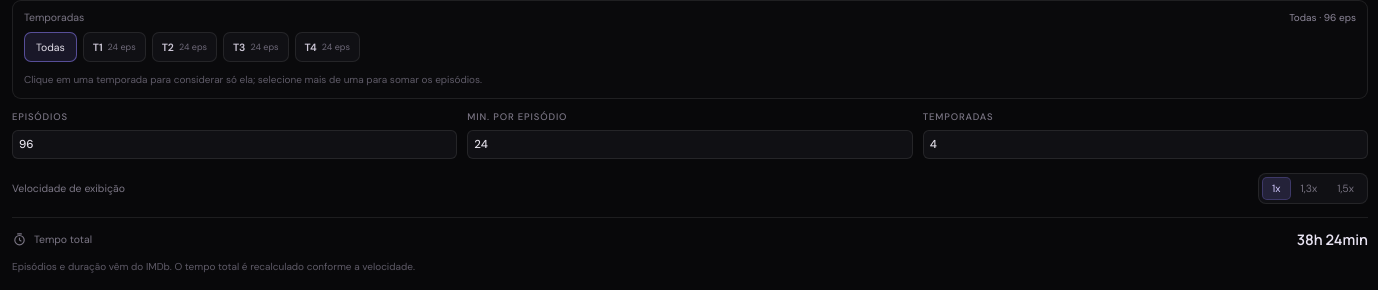
TimeFields (séries) › soma temporadas selecionadas e recalcula na velocidade escolhida
What coordinates should you click on to do the following:
click the button "T2 24 eps"
I would click on:
 (184, 47)
Its box is [152,32,217,62].
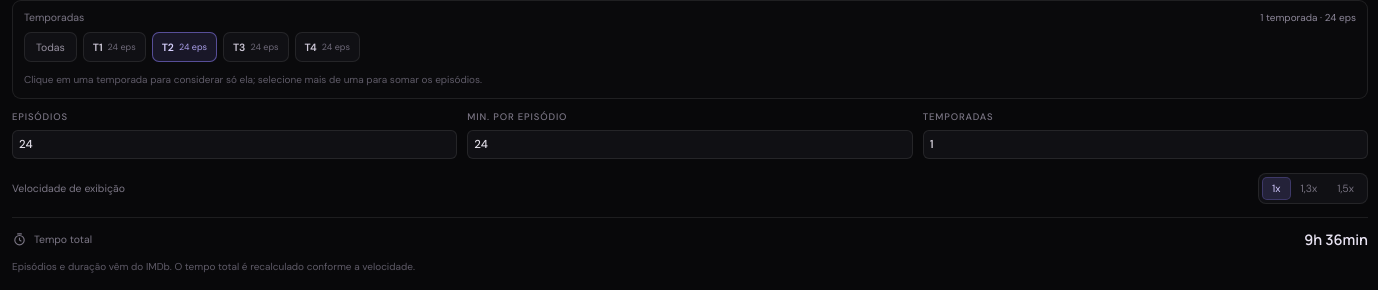
What coordinates should you click on to do the following:
click the button "T3 24 eps"
I would click on:
 (256, 47)
Its box is [223,32,288,62].
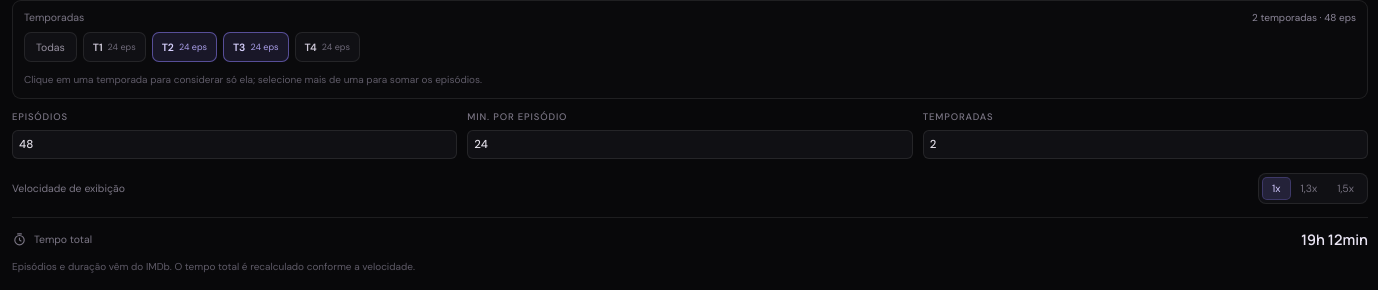
Now the text "2 temporadas · 48 eps" is shown, box [1252,11,1356,24]
Now the text "19h 12min" is shown, box [1301,230,1368,248]
What coordinates should you click on to do the following:
click the button "1,5x"
I would click on:
 (1346, 188)
Its box is [1327,176,1364,200].
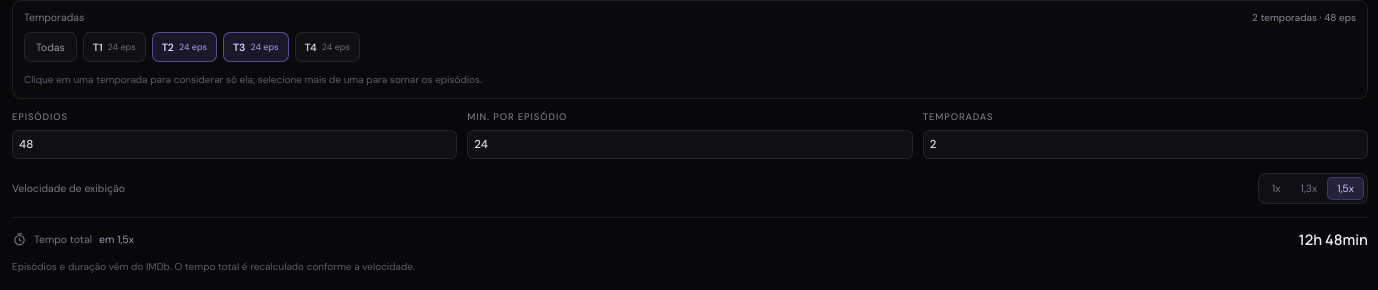
Now the text "12h 48min" is shown, box [1298,230,1368,248]
